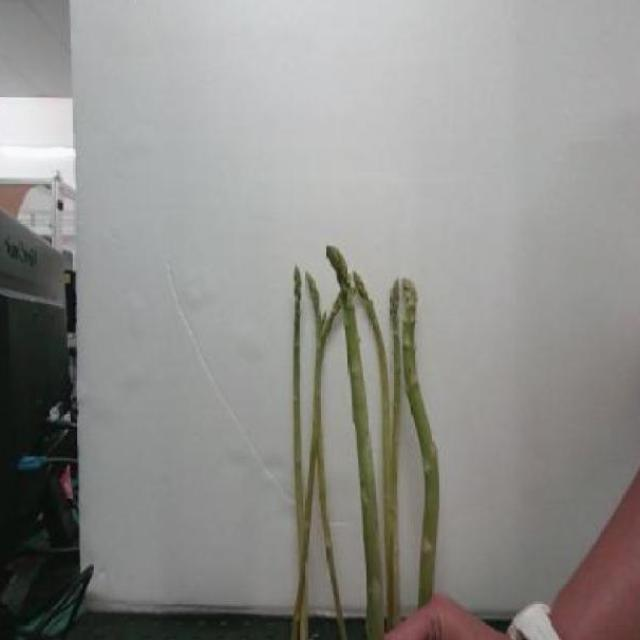aspargus: (321, 242, 387, 637), (399, 282, 440, 609)
